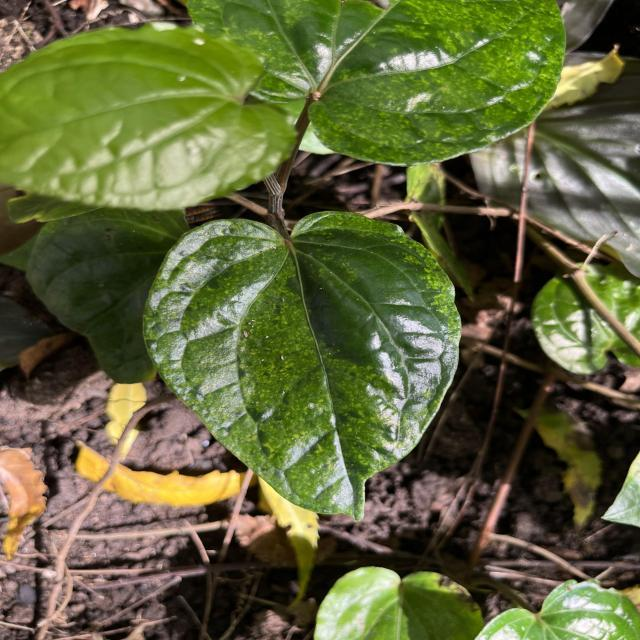Piper betle: (139, 207, 466, 524)
